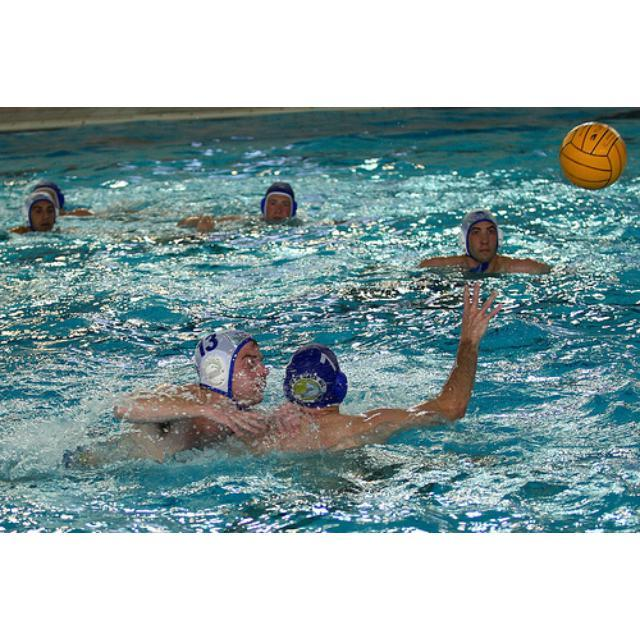human: (254, 278, 504, 455), (89, 328, 269, 467), (419, 207, 550, 274), (211, 181, 299, 225), (21, 187, 59, 234)
